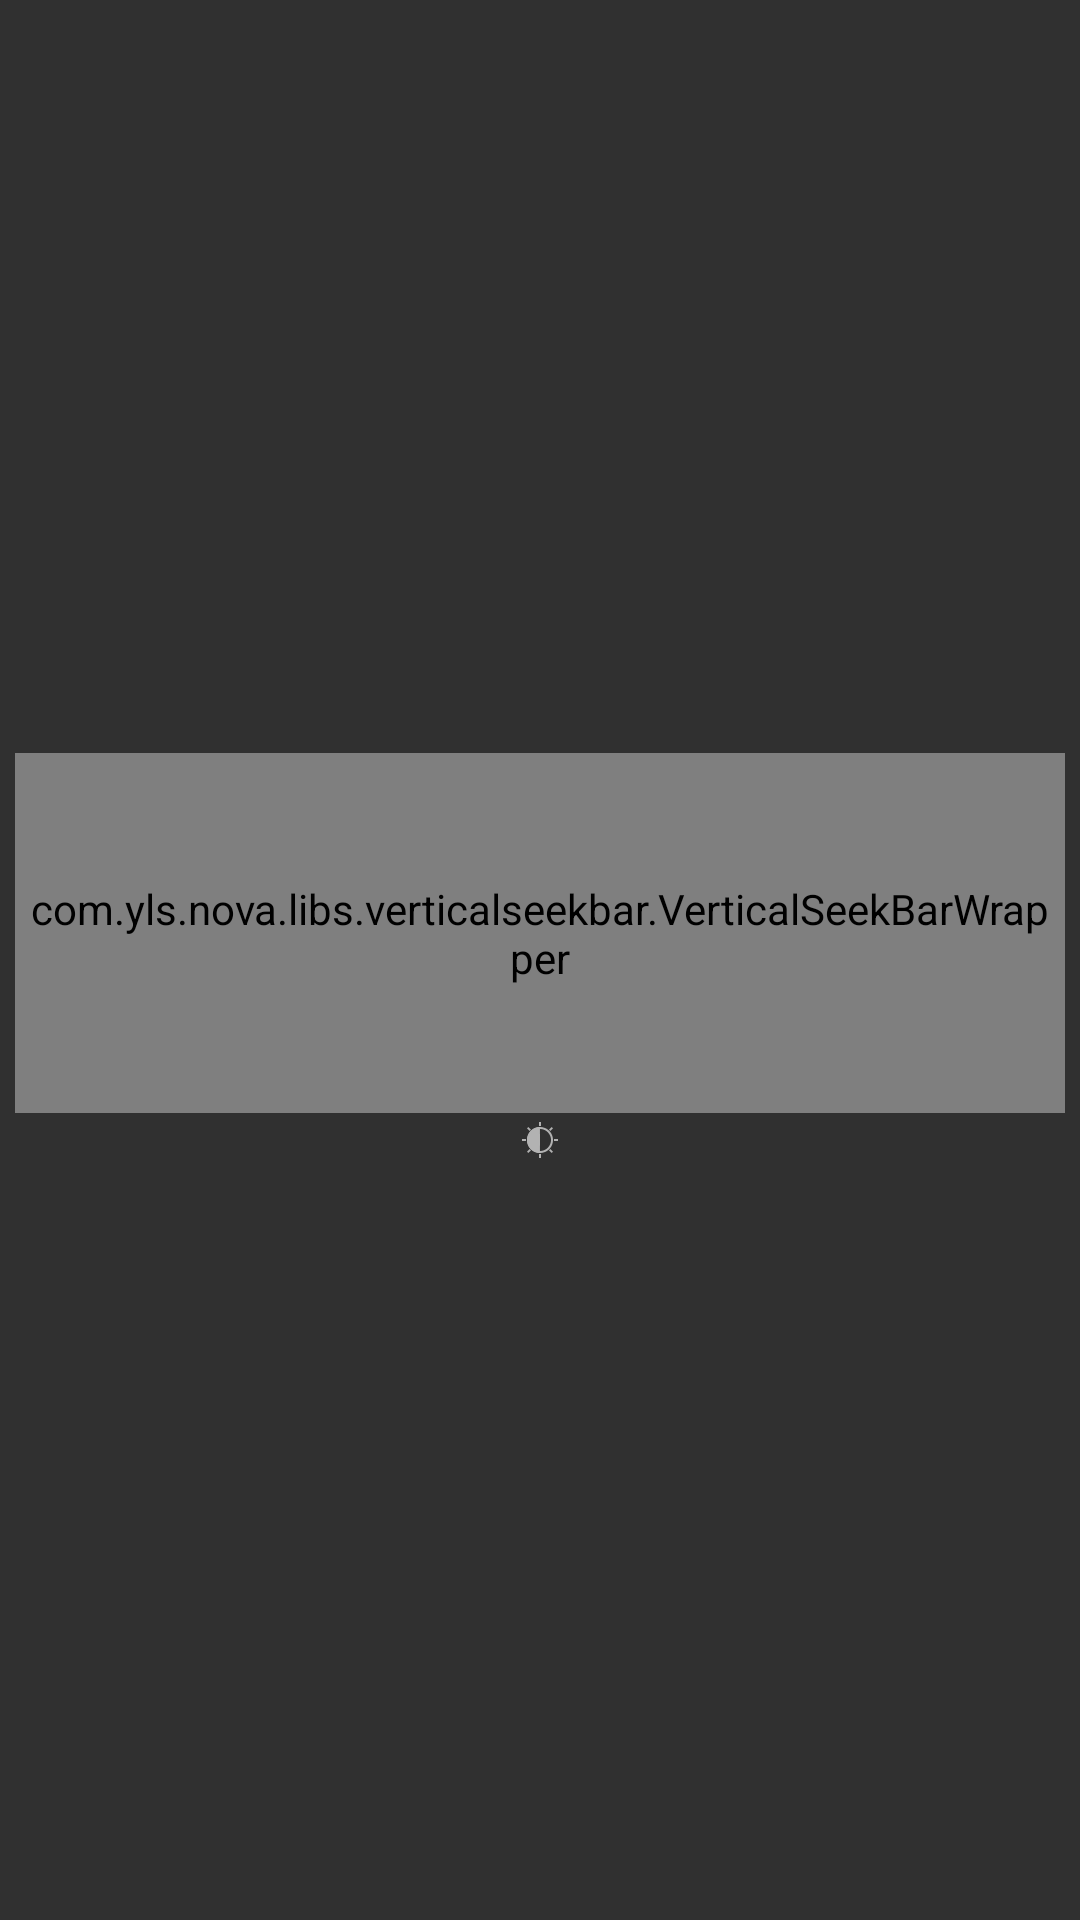

Screen size 1080*1920. Icon name, then its center in pixels as [x,y]:
brightness: [540,1140]
